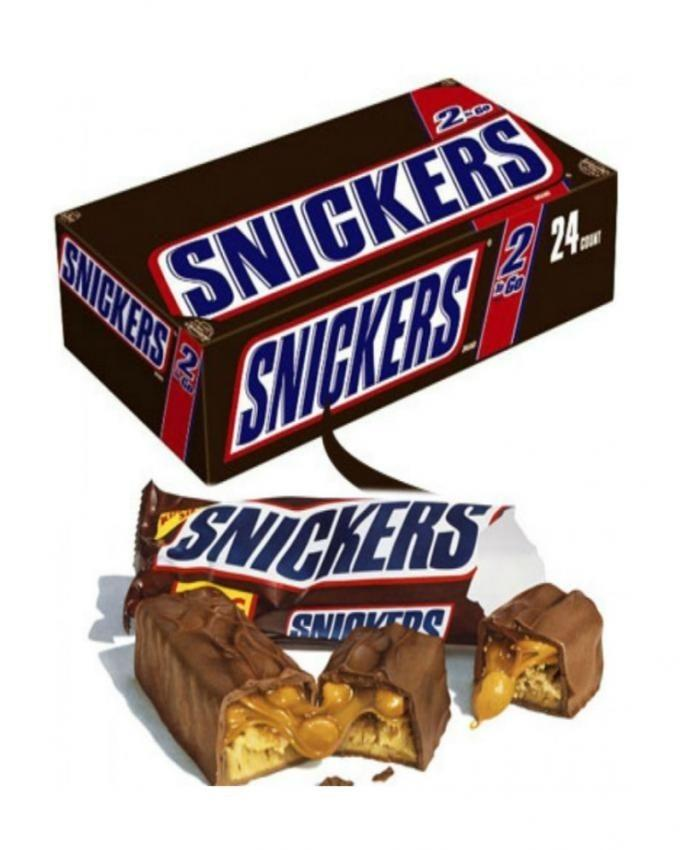snickers: (166, 116, 544, 318), (168, 116, 544, 318), (168, 163, 492, 318), (235, 254, 472, 446), (245, 254, 472, 423), (245, 276, 463, 423), (164, 499, 485, 577), (170, 505, 485, 577), (170, 505, 485, 568), (51, 234, 164, 366), (285, 602, 442, 636), (285, 606, 446, 636)
